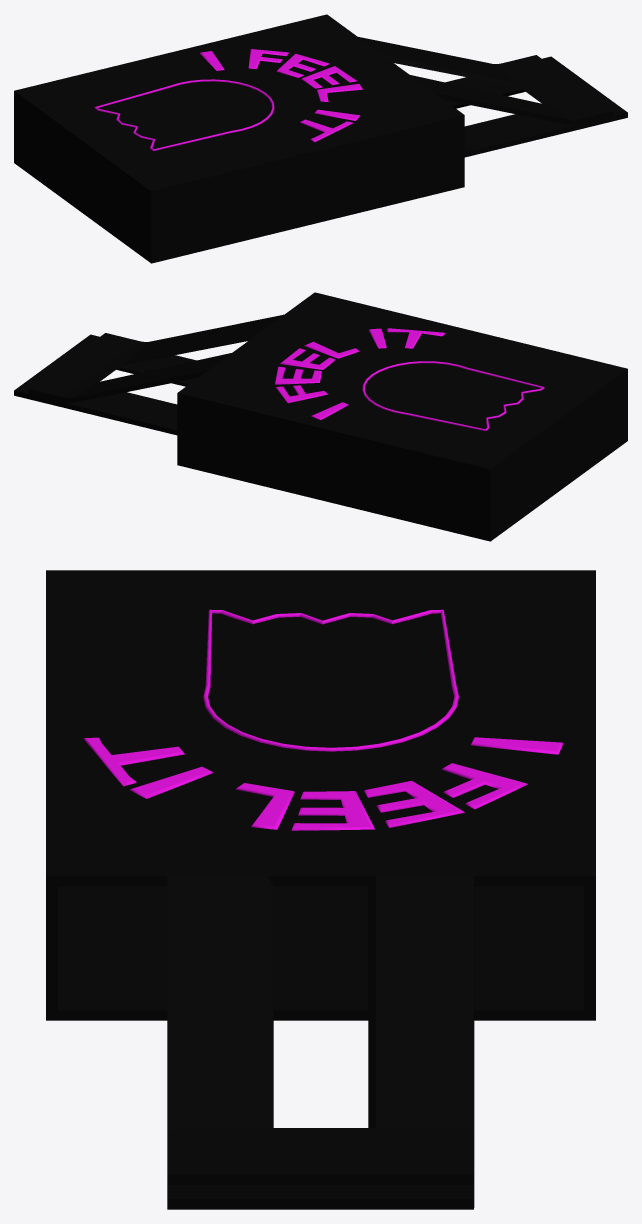
File: bag.glb
3 views of the same model, one above another, from view 1: azimuth 30°, elevation 25°; view 2: azimuth 150°, elevation 25°; view 3: azimuth 270°, elevation 25° (orthographic). The views are drawn at different scales.
Parts seen in each view (by area): view 1: Cube, I FEEL IT, Circle; view 2: Cube, I FEEL IT, Circle; view 3: Cube, I FEEL IT, Circle.
Boxes of the visible parts, <box> form: Cube: <box>14,14,627,263</box>; I FEEL IT: <box>199,49,362,141</box>; Circle: <box>94,79,274,150</box>; Cube: <box>14,292,627,541</box>; I FEEL IT: <box>275,328,445,419</box>; Circle: <box>362,361,544,430</box>; Cube: <box>46,570,595,1209</box>; I FEEL IT: <box>84,737,563,830</box>; Circle: <box>203,609,458,751</box>.
Bounding box in the file's own units: 9.33 × 1.29 × 4.38.
